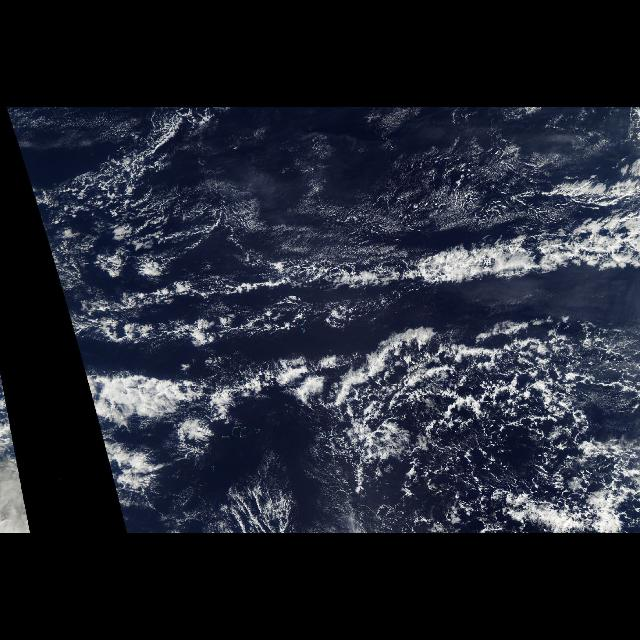Fish: (55, 212, 640, 408)
Gravel: (323, 307, 639, 533), (18, 112, 266, 272)
Sugar: (46, 110, 640, 258)
